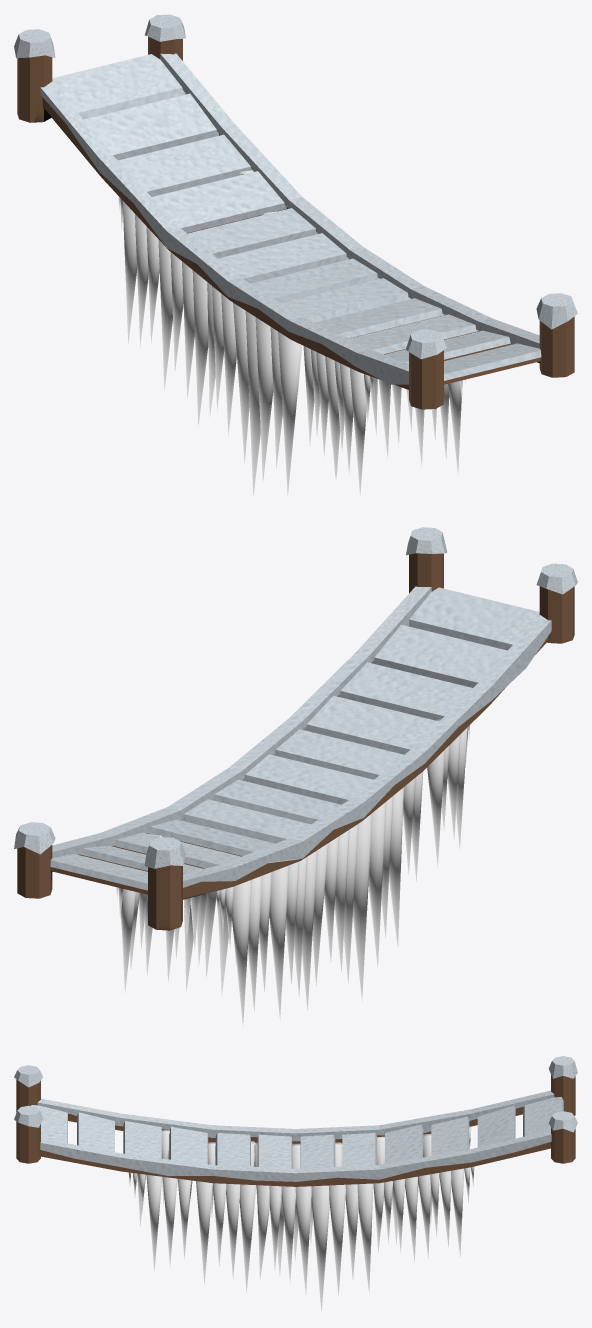
The model's file is Icebridge.fbx.
3 renders of one model, top to bottom at view 1: azimuth 30°, elevation 25°; view 2: azimuth 150°, elevation 25°; view 3: azimuth 270°, elevation 25°, orthographic. The views are drawn at different scales.
Visible parts, largest first — view 1: Bridge.001; view 2: Bridge.001; view 3: Bridge.001.
Boxes of the visible parts, x1,y1,x2,y2 form: Bridge.001: (14,14,577,496); Bridge.001: (14,527,577,1026); Bridge.001: (14,1056,577,1312).
Size of the model in its own units: 1.48 by 2.65 by 6.33.
